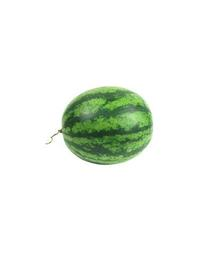watermelon: (57, 86, 154, 166)
